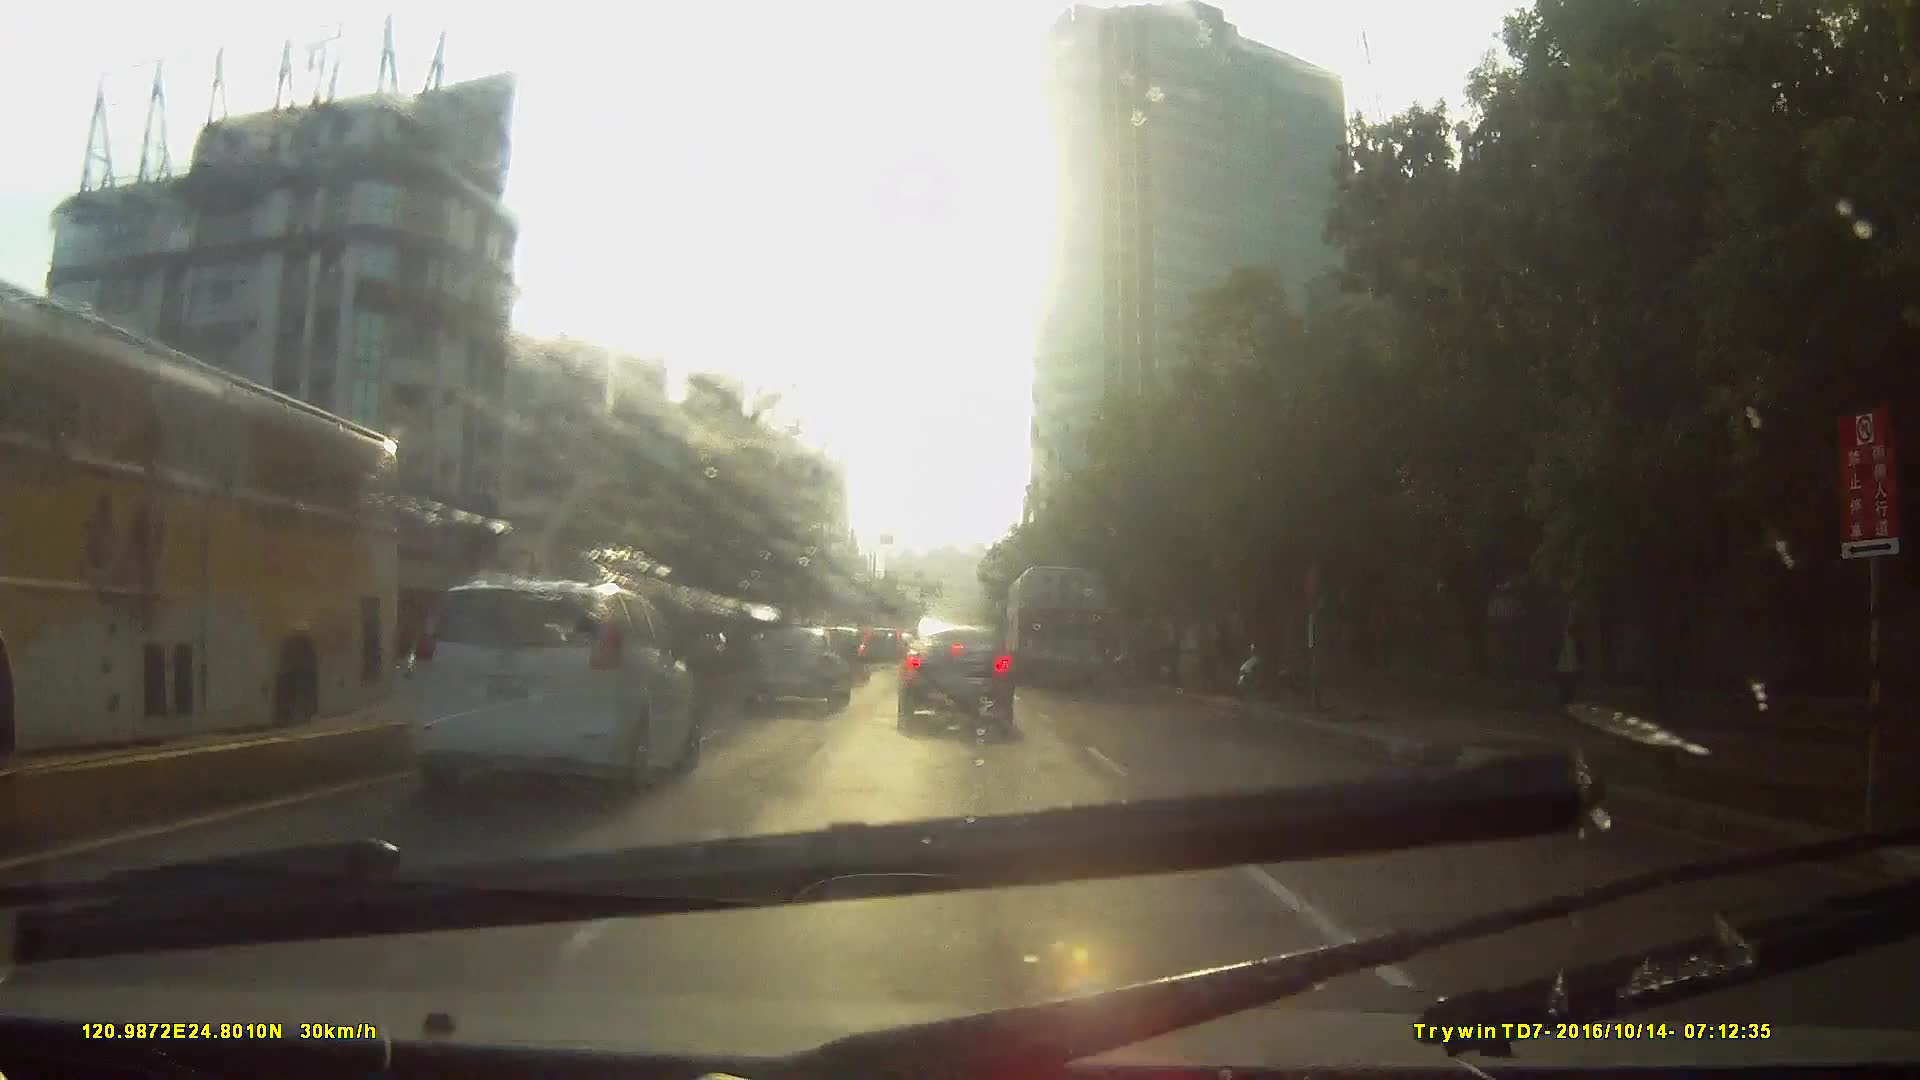pedestrian: (1527, 589, 1595, 727)
vehicle: (1, 282, 453, 826), (250, 556, 684, 868), (404, 567, 698, 803), (892, 615, 1011, 725), (1008, 560, 1113, 686), (740, 620, 848, 704), (854, 620, 903, 669)
